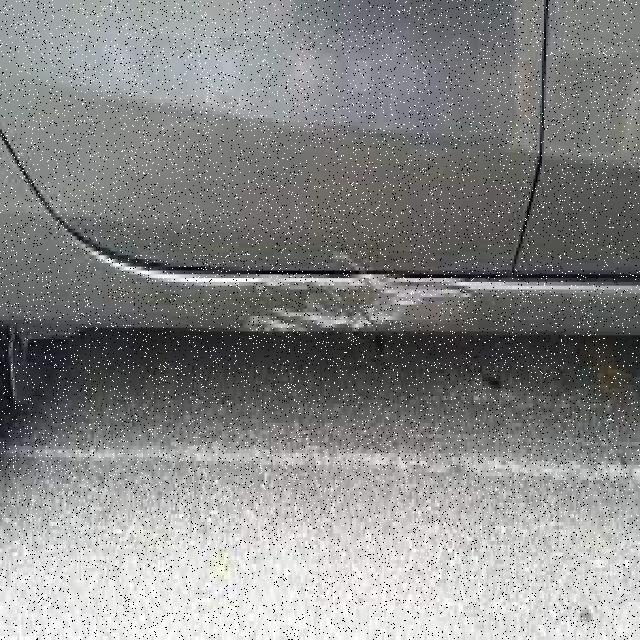RunningBoard-Dent: (79, 255, 482, 339)
